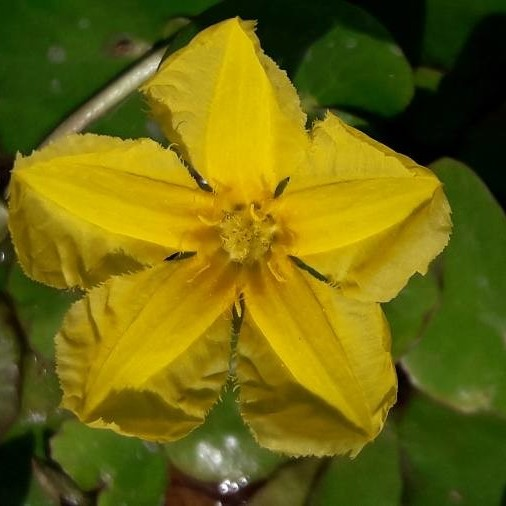obstacle: (23, 25, 413, 475)
